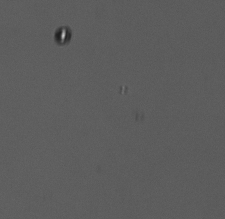Living Cell: (52, 24, 72, 46)
